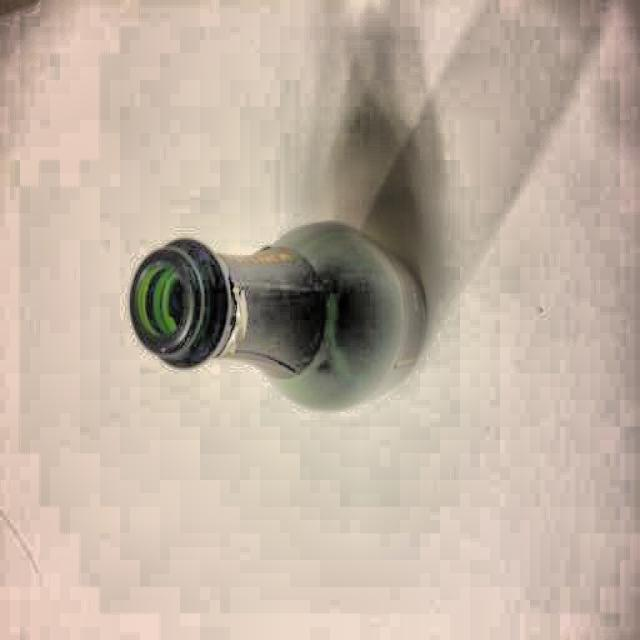glass: (131, 220, 438, 418)
